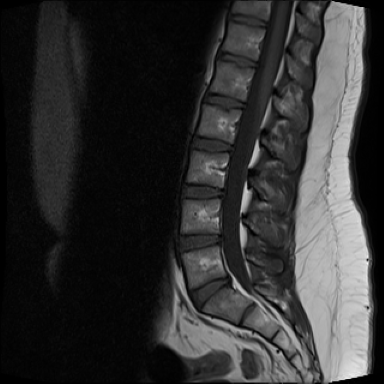Normal IVD: (185, 270, 235, 313), (185, 130, 238, 157), (171, 230, 224, 257), (201, 88, 248, 113), (214, 47, 259, 72), (177, 183, 227, 203), (227, 11, 271, 30)
